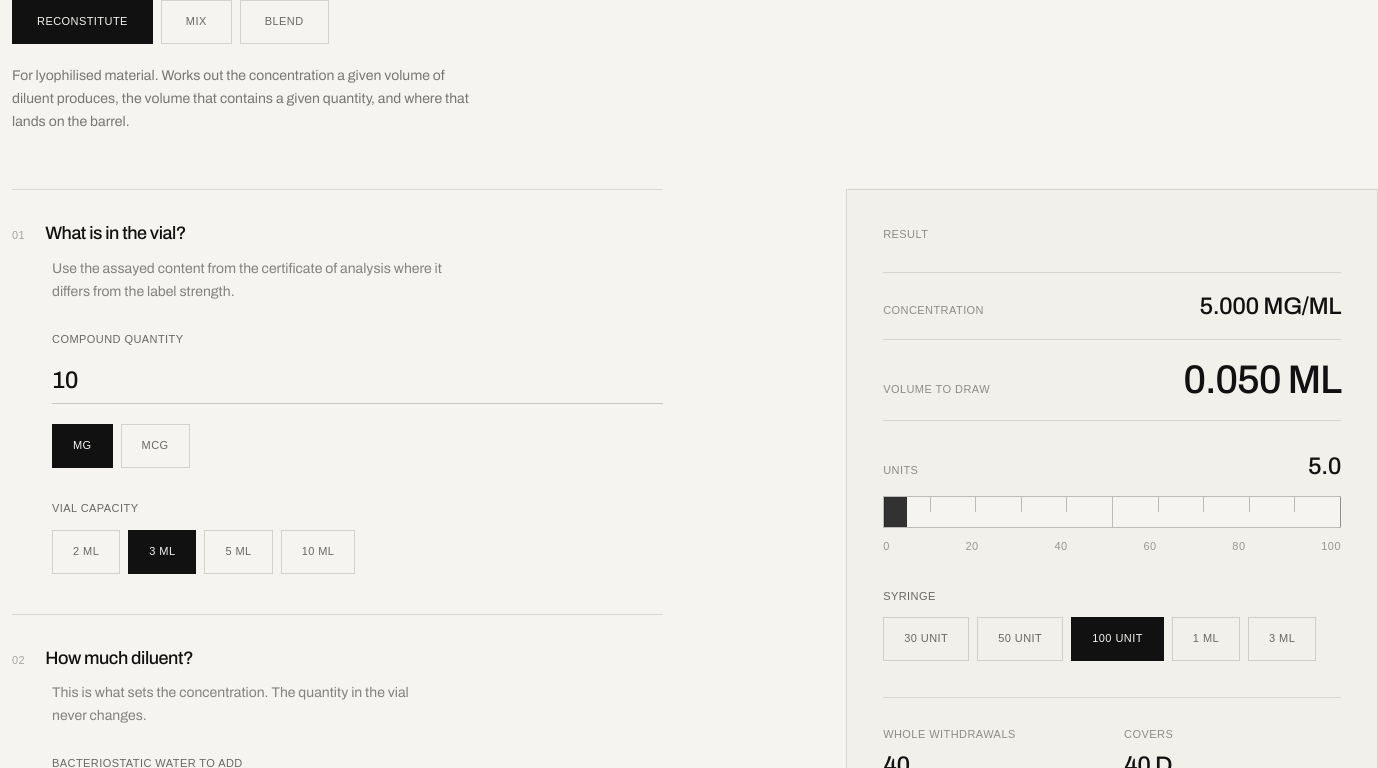
Test: mix › removes a row once there are more than two
This screenshot has width=1378, height=768.
Click the tab "Mix". click: click(196, 22)
box: [161, 0, 232, 44]
(page scrolled)
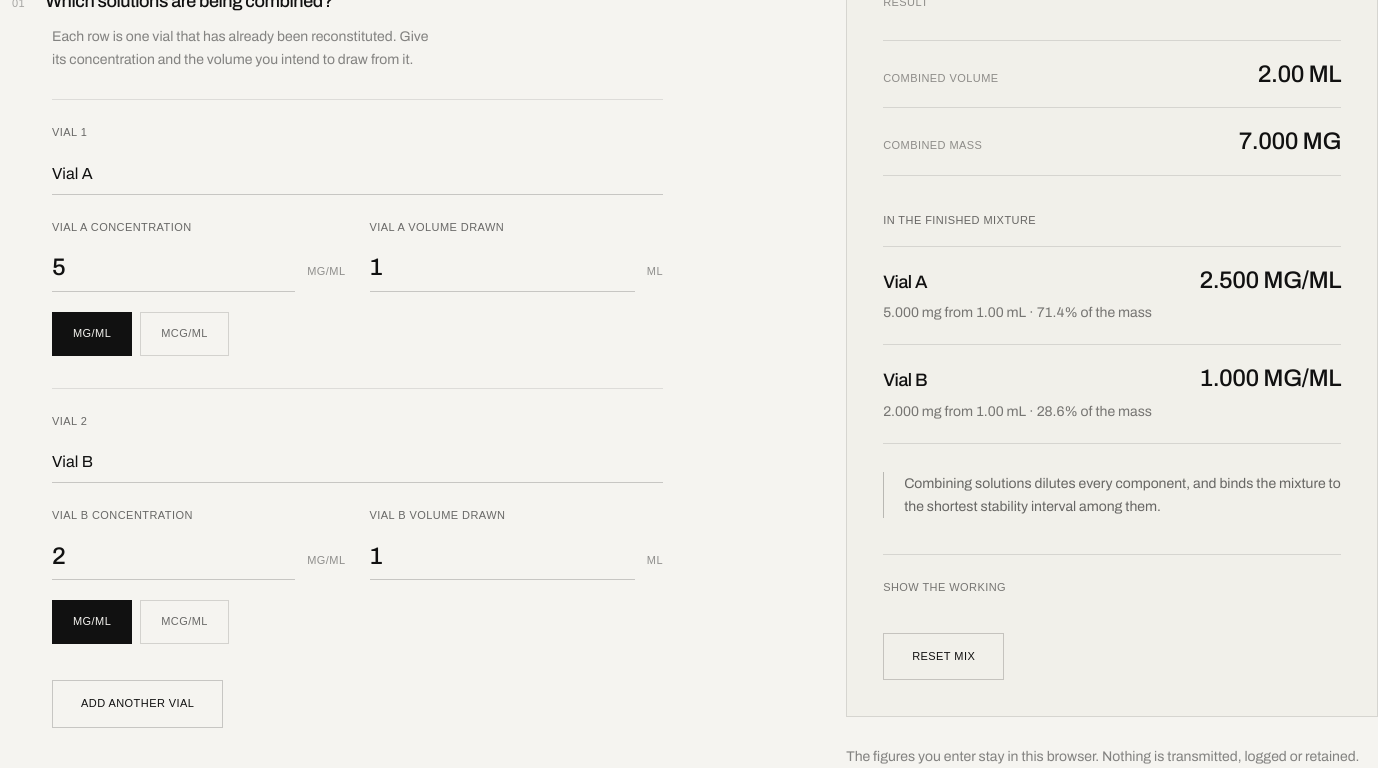
Click the button "Add another vial". click: click(138, 704)
box: [52, 680, 223, 728]
(page scrolled)
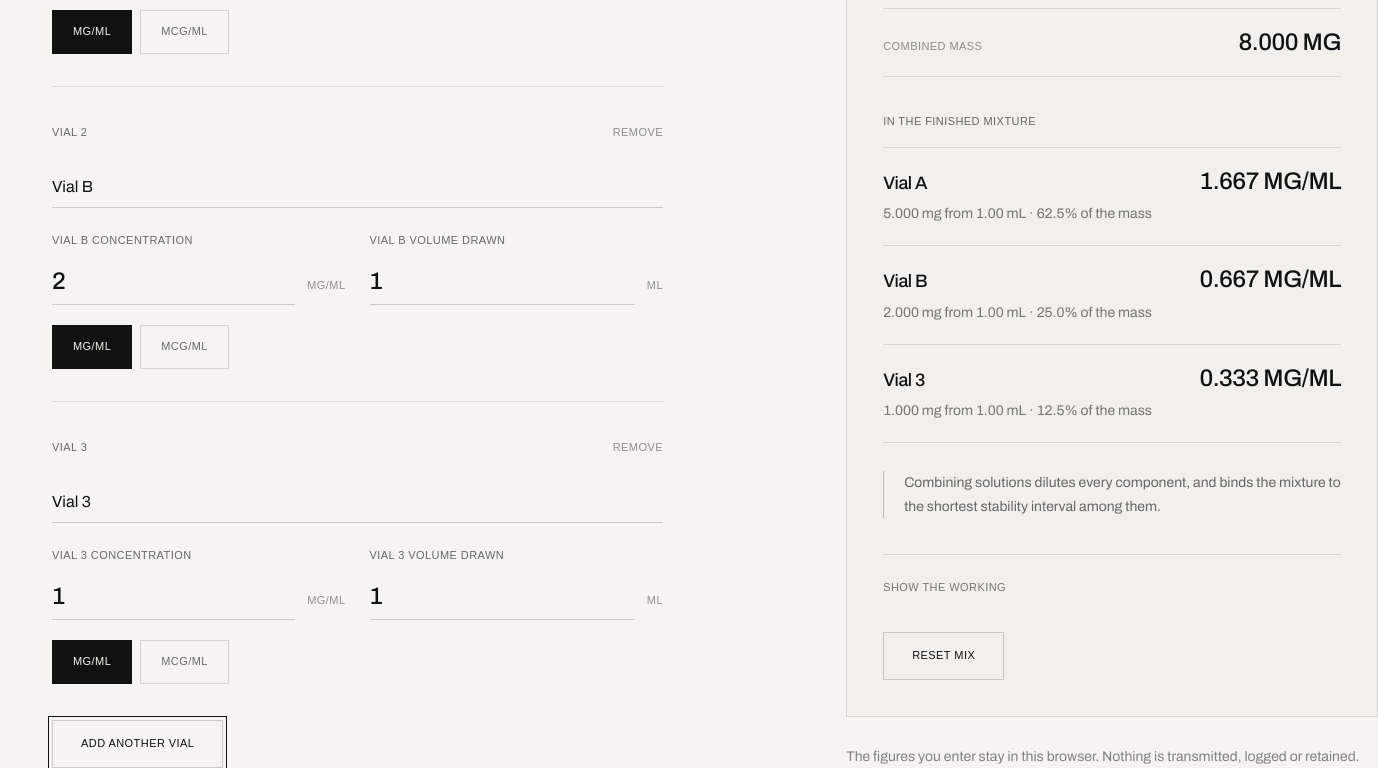
Click the button named "remove vial 3". click: click(638, 448)
box: [613, 426, 663, 470]
(page scrolled)
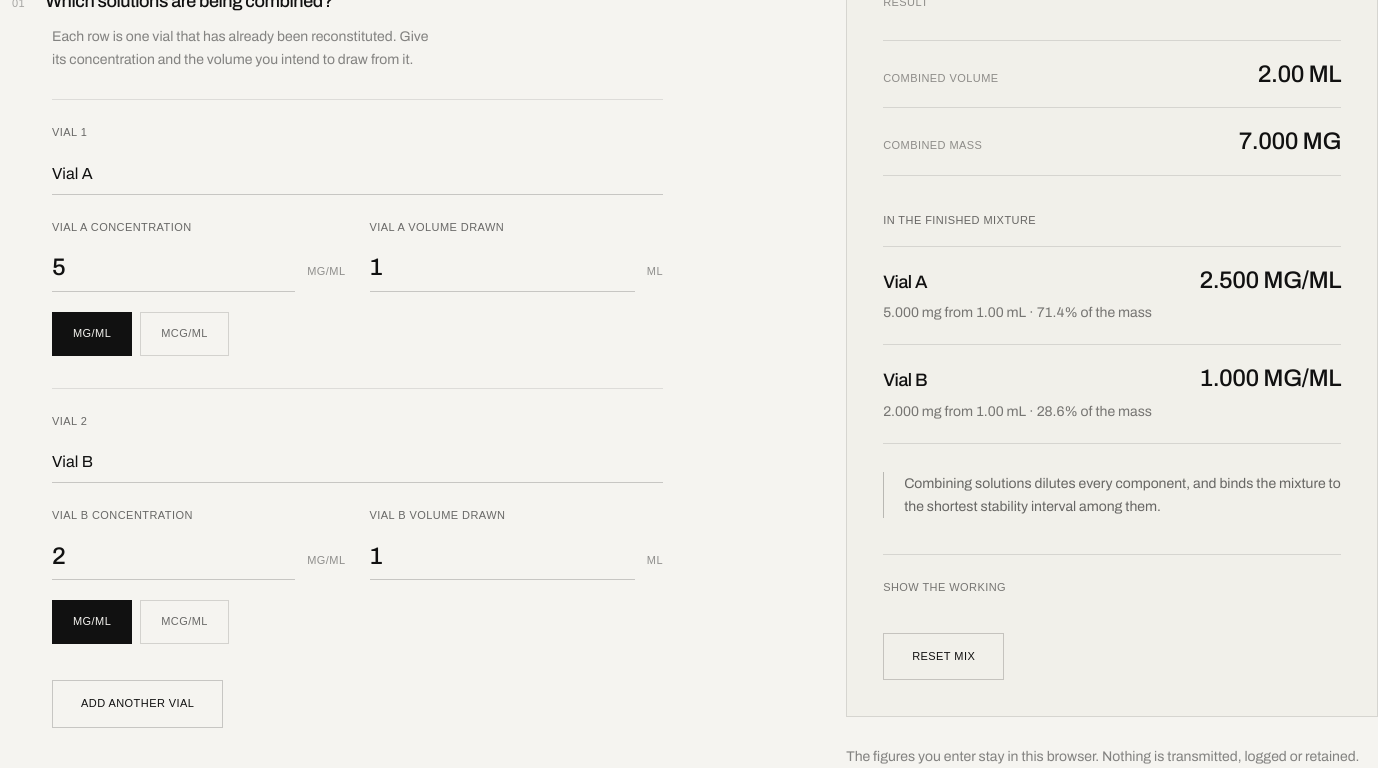
Expected: the label labelled "Vial 3" is gone
